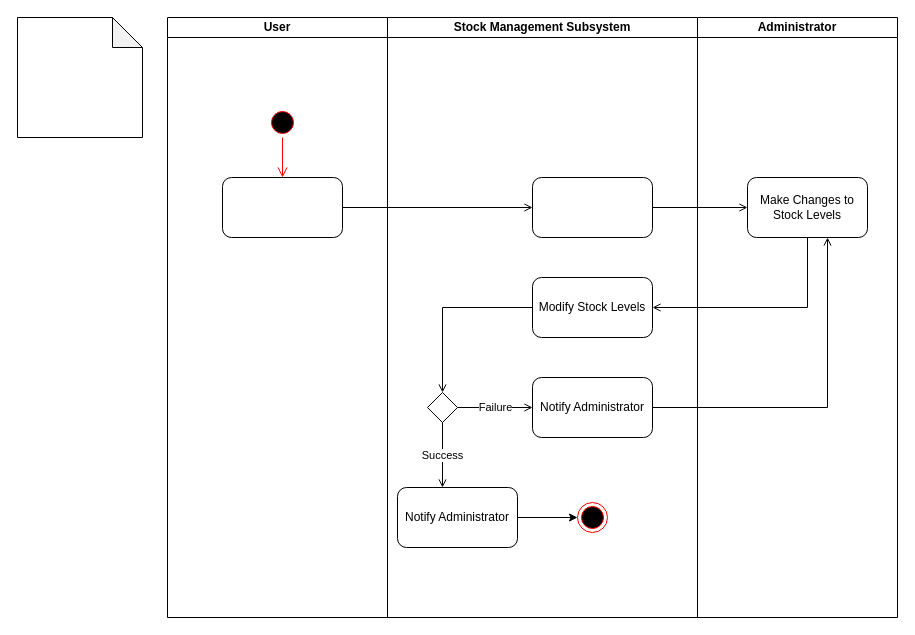
Some shapes in this 915 by 635 pixel diagram are drawn without their labels. Each missing label, with the centre of its shape:
Notify Admin of Stock Used: the point at 592,207
Use Stock: the point at 282,207
Users can be Employees, Contractors and Supervisors.: the point at 79,77
